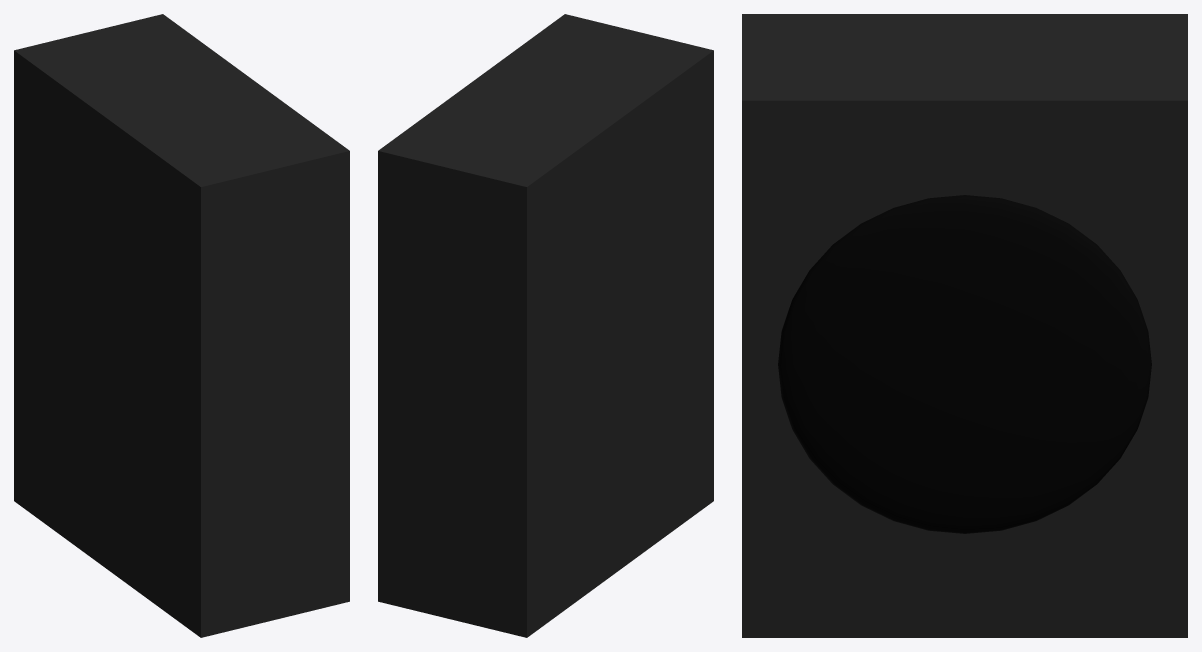
File: speakerglb.glb
3 renders of one model, left to right at view 1: azimuth 30°, elevation 25°; view 2: azimuth 150°, elevation 25°; view 3: azimuth 270°, elevation 25°, orthographic. The views are drawn at different scales.
Parts seen in each view (by area): view 1: Cube; view 2: Cube; view 3: Cube, Sphere.
Boxes of the visible parts, left/top/right/bottom form: Cube: left=14, top=14, right=349, bottom=637; Cube: left=378, top=14, right=713, bottom=637; Cube: left=742, top=14, right=1187, bottom=637; Sphere: left=778, top=195, right=1151, bottom=533.
Size of the model in its own units: 1.05 by 2.66 by 2.
2 materials, 1 textured.
